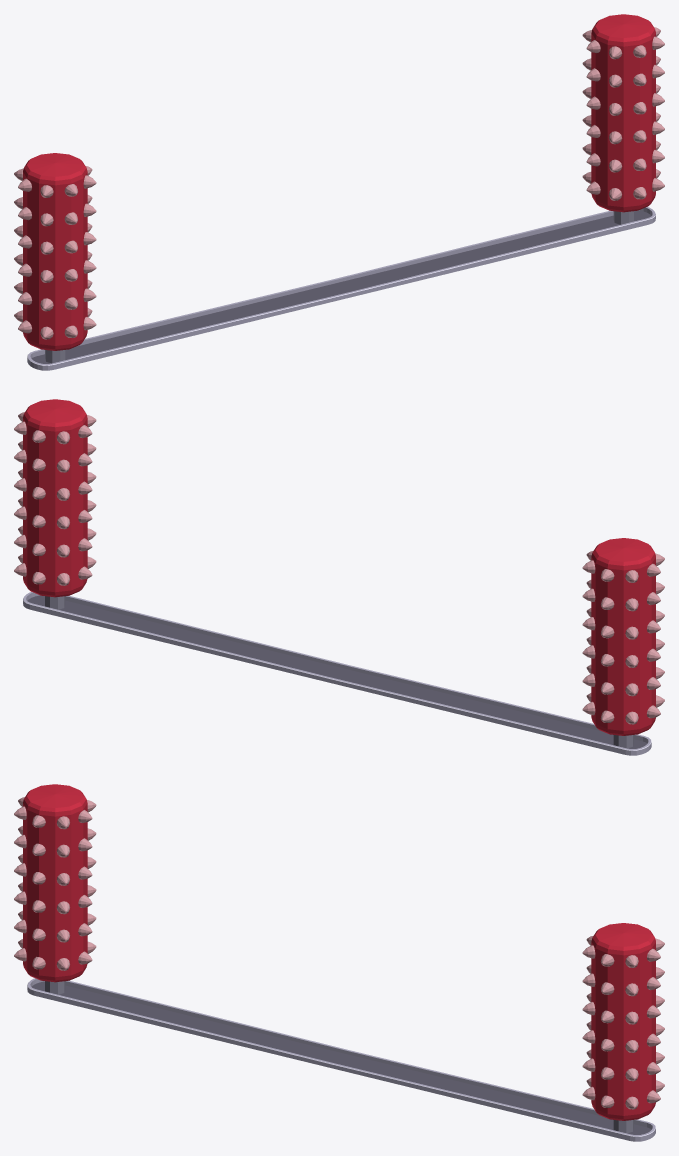
File: Hurdle17.fbx
3 renders of one model, top to bottom at view 1: azimuth 30°, elevation 25°; view 2: azimuth 150°, elevation 25°; view 3: azimuth 330°, elevation 25°, orthographic.
Parts seen in each view (by area): view 1: Hurdle17; view 2: Hurdle17; view 3: Hurdle17.
Boxes of the visible parts, x1,y1,x2,y2 form: Hurdle17: (14,14,664,370); Hurdle17: (14,399,664,755); Hurdle17: (14,784,664,1141).
Size of the model in its own units: 10.24 by 3 by 1.17.
1 material, 1 textured.
